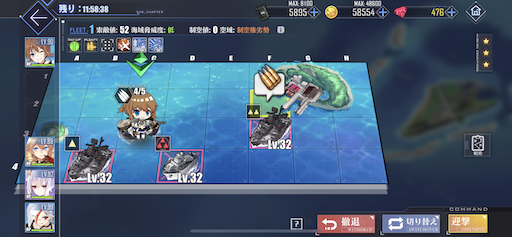lv1: (64, 137, 111, 182)
lv2: (246, 104, 291, 149)
lv3: (155, 137, 202, 181)
